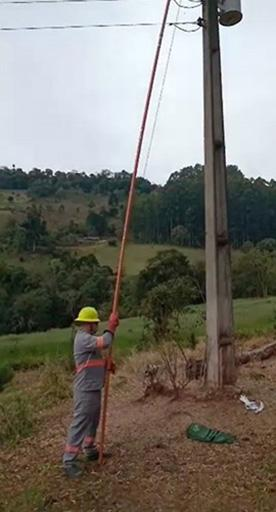Vara_Manobra: (97, 1, 170, 467)
